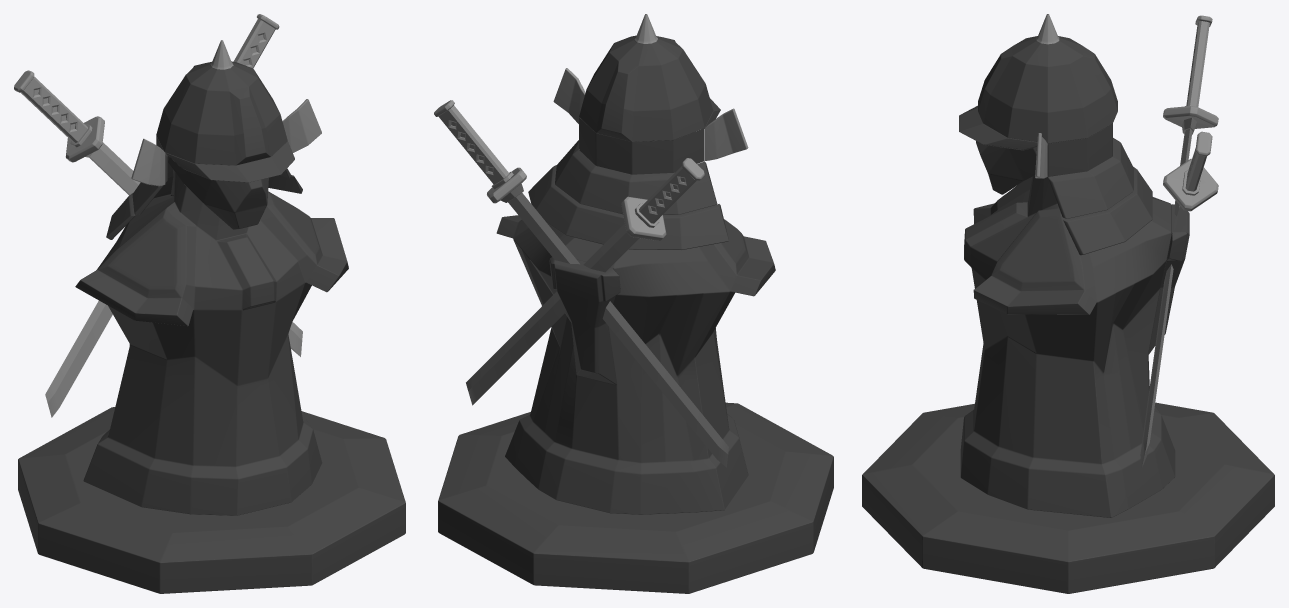
File: samuray_b_b.glb
3 renders of one model, left to right at view 1: azimuth 30°, elevation 25°; view 2: azimuth 150°, elevation 25°; view 3: azimuth 270°, elevation 25°, orthographic. The views are drawn at different scales.
Visible parts, largest first — view 1: b_O1; view 2: b_O1; view 3: b_O1.
Boxes of the visible parts, x1,y1,x2,y2 form: b_O1: [14, 14, 405, 593]; b_O1: [434, 14, 833, 593]; b_O1: [862, 14, 1274, 593].
Size of the model in its own units: 1.65 by 2.21 by 1.65.
1 material, 1 textured.
